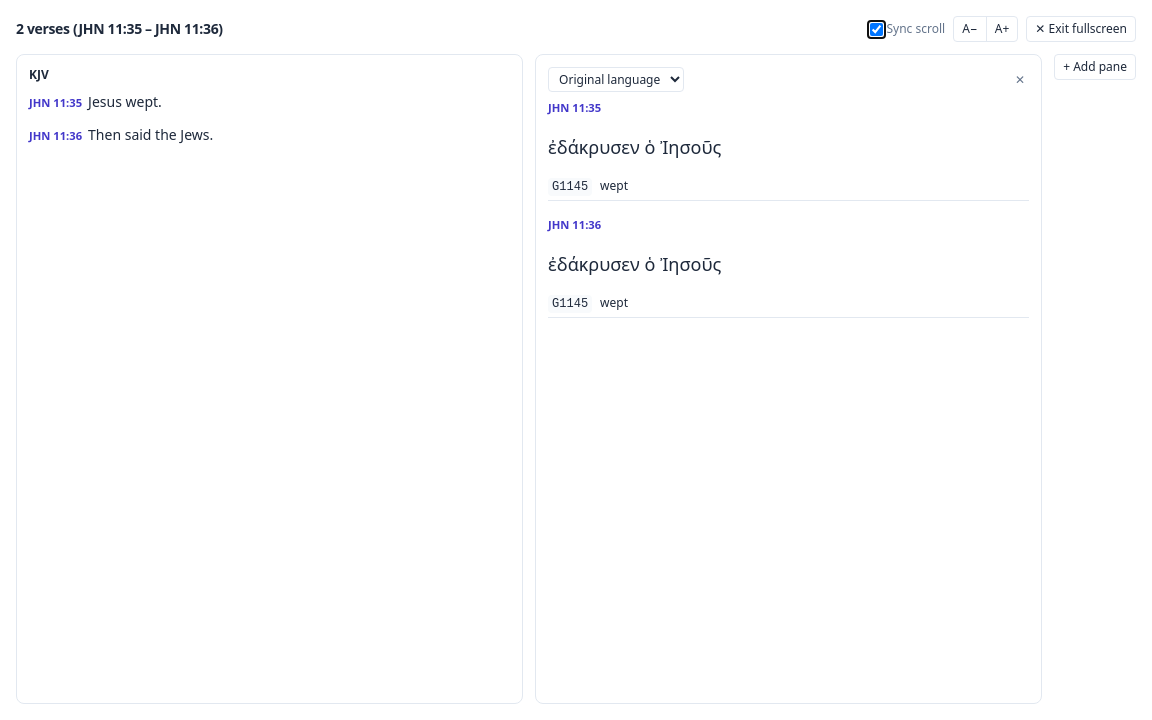
Test case: VerseFullscreen › with more than one verse › switching an extra pane to another translation shows every verse in that translation
Select "NIV" in the dropdown named "pane 1 content": x=616, y=80 [548,67,684,92]
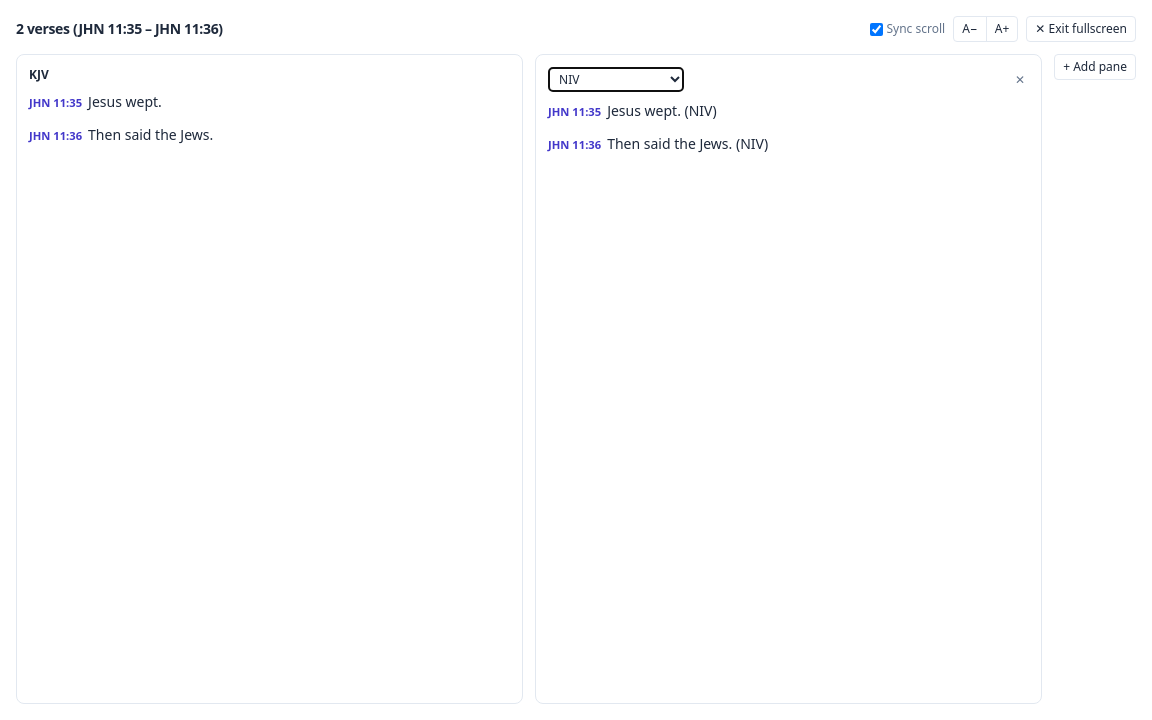
Check: the text "Jesus wept. (NIV)" is shown, box [607,101,717,120]
Check: the text "Then said the Jews. (NIV)" is shown, box [607,134,768,153]
